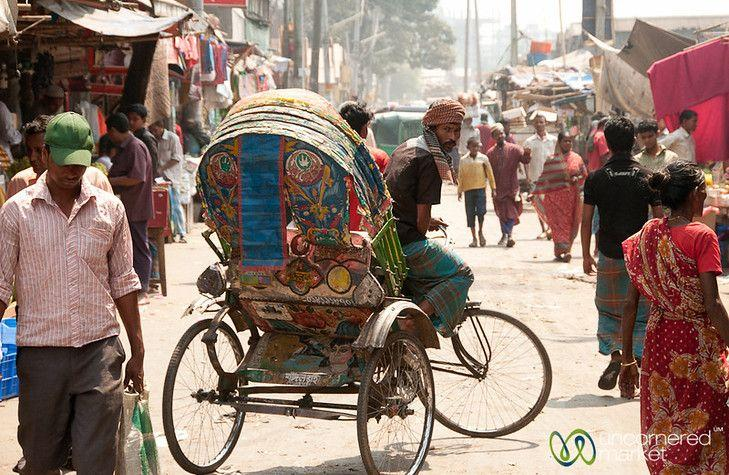Rickshaw: (163, 90, 550, 472), (370, 107, 426, 155)
